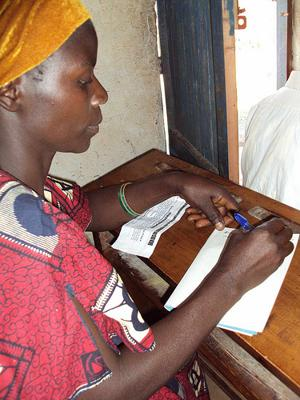person: (2, 3, 292, 400)
